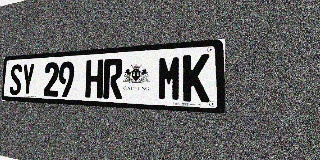2: (44, 62, 59, 97)
9: (58, 61, 75, 97)
H: (85, 59, 103, 98)
K: (182, 54, 210, 102)
M: (157, 55, 182, 101)
R: (103, 58, 123, 99)
S: (9, 64, 22, 95)
Y: (21, 63, 35, 96)
